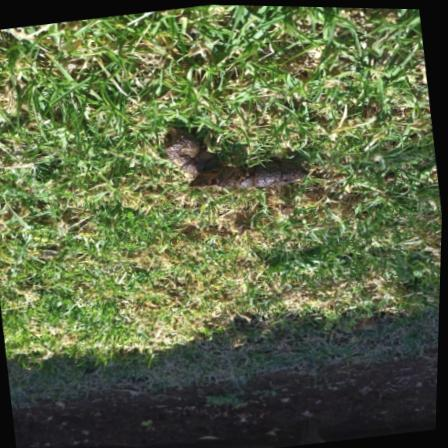dog-poop: (163, 115, 317, 208)
